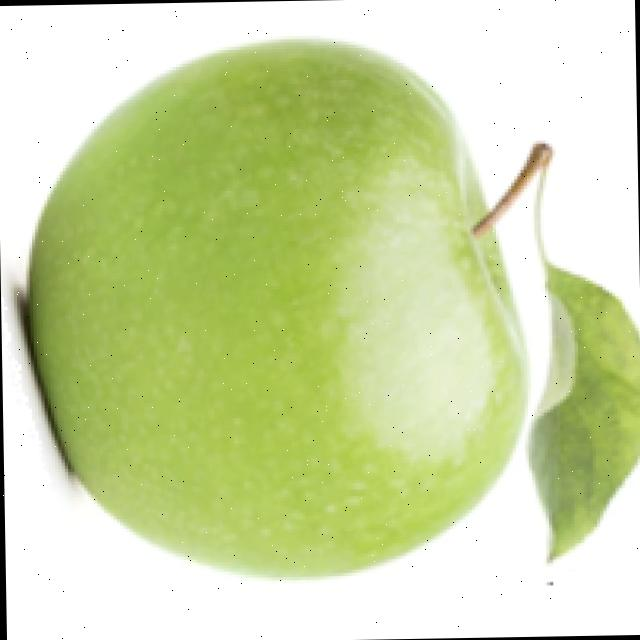apple: (2, 32, 640, 583)
